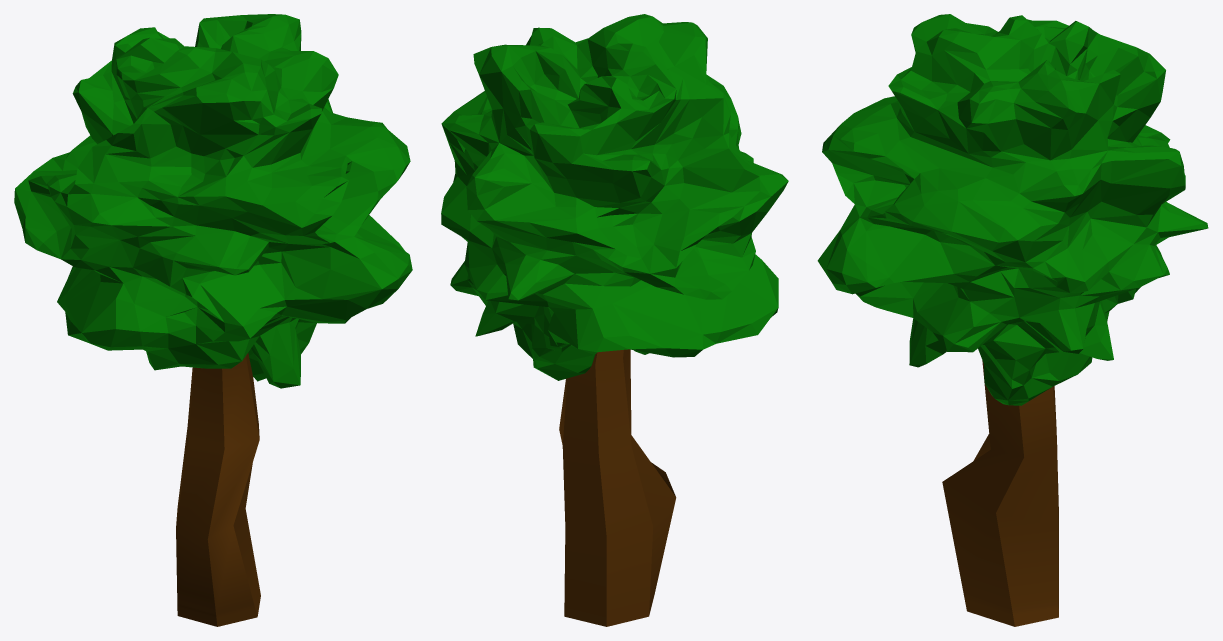
The model's file is Tree.fbx.
The picture shows the model from 3 angles, left to right: view 1: azimuth 30°, elevation 25°; view 2: azimuth 150°, elevation 25°; view 3: azimuth 270°, elevation 25°; orthographic projection.
Parts seen in each view (by area): view 1: pCube1, pCylinder1; view 2: pCube1, pCylinder1; view 3: pCube1, pCylinder1.
Part boxes in pixels (x1,y1,x2,y2): pCube1: (14, 14, 412, 388); pCylinder1: (176, 353, 260, 626); pCube1: (441, 14, 788, 380); pCylinder1: (559, 349, 676, 626); pCube1: (817, 14, 1208, 405); pCylinder1: (942, 360, 1058, 626).
Size of the model in its own units: 7.64 by 12.82 by 7.91.
